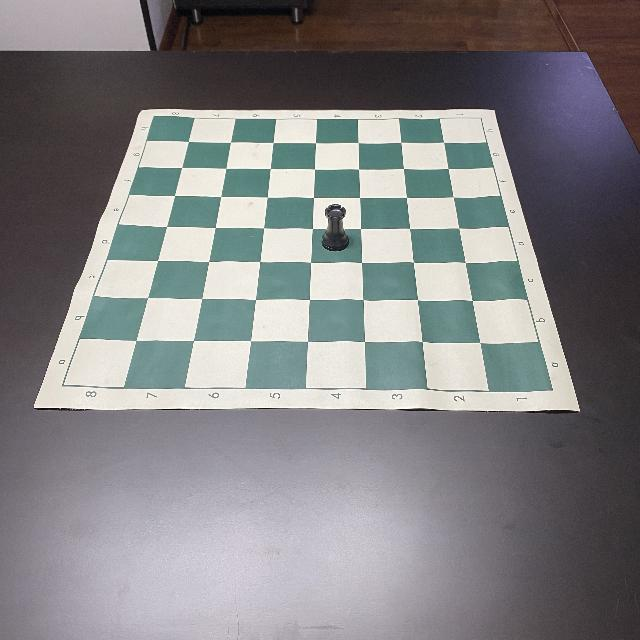black-rook: (320, 202, 350, 252)
board: (34, 108, 582, 414)
